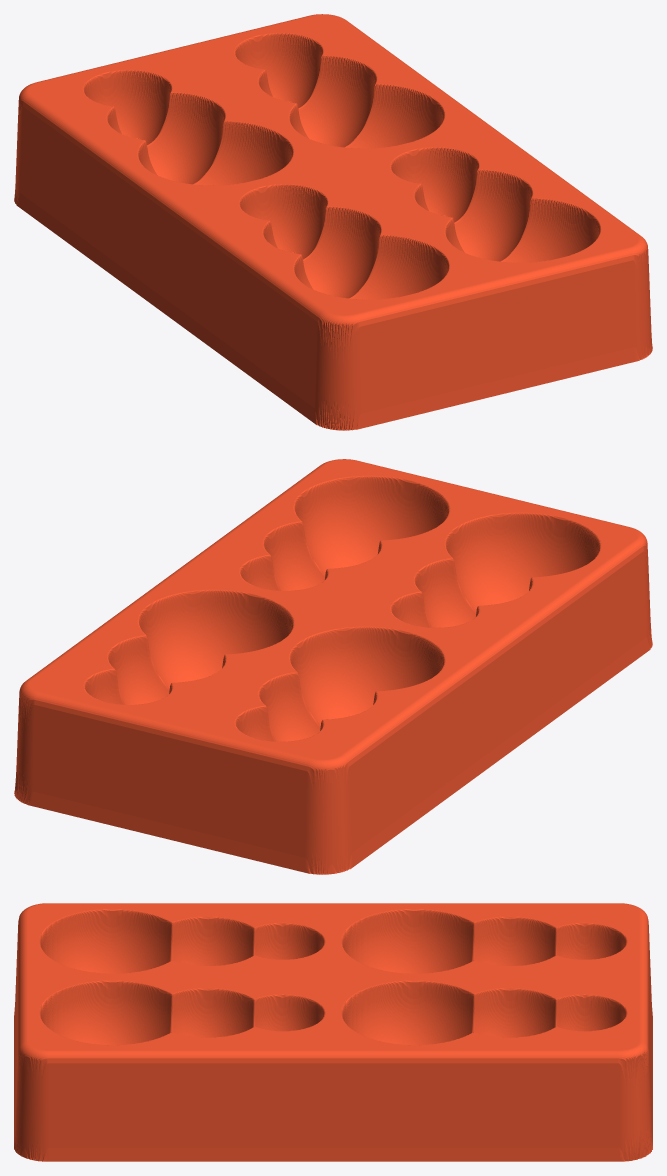
File: mold.glb
3 views of the same model, one above another, from view 1: azimuth 30°, elevation 25°; view 2: azimuth 150°, elevation 25°; view 3: azimuth 270°, elevation 25° (orthographic). The views are drawn at different scales.
Parts seen in each view (by area): view 1: geometry_0; view 2: geometry_0; view 3: geometry_0.
Boxes of the visible parts, x1,y1,x2,y2 form: geometry_0: [14, 14, 652, 430]; geometry_0: [14, 459, 652, 874]; geometry_0: [14, 903, 652, 1161].
Bounding box in the file's own units: 0.0993 × 0.031 × 0.1699.
